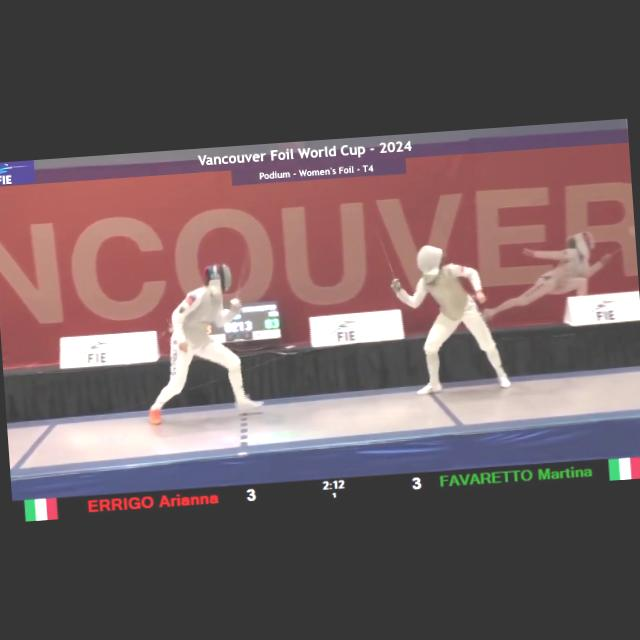blade: (362, 210, 401, 286), (225, 236, 260, 310)
